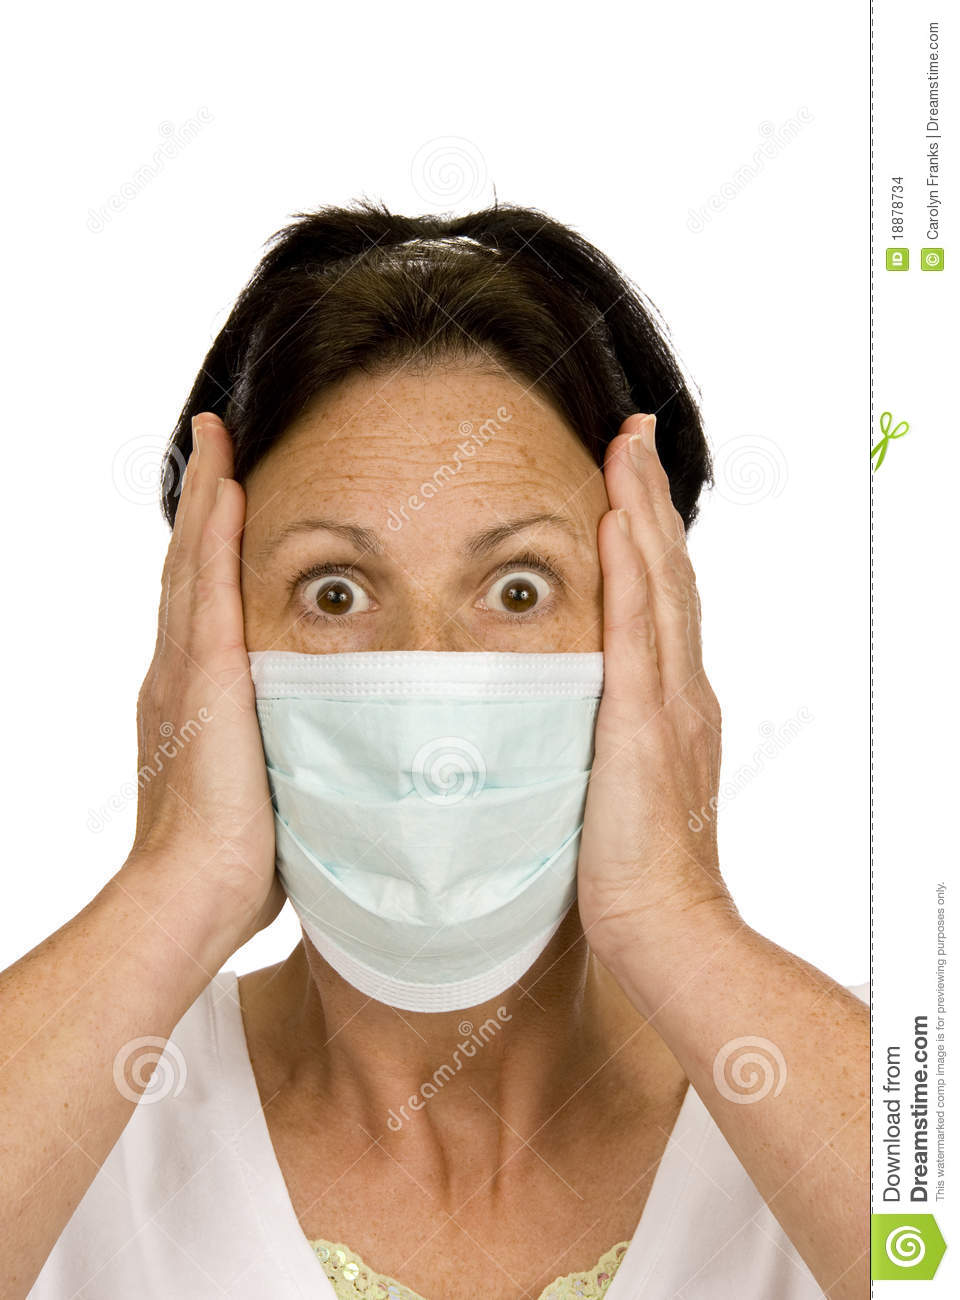mask: (222, 631, 604, 1017)
